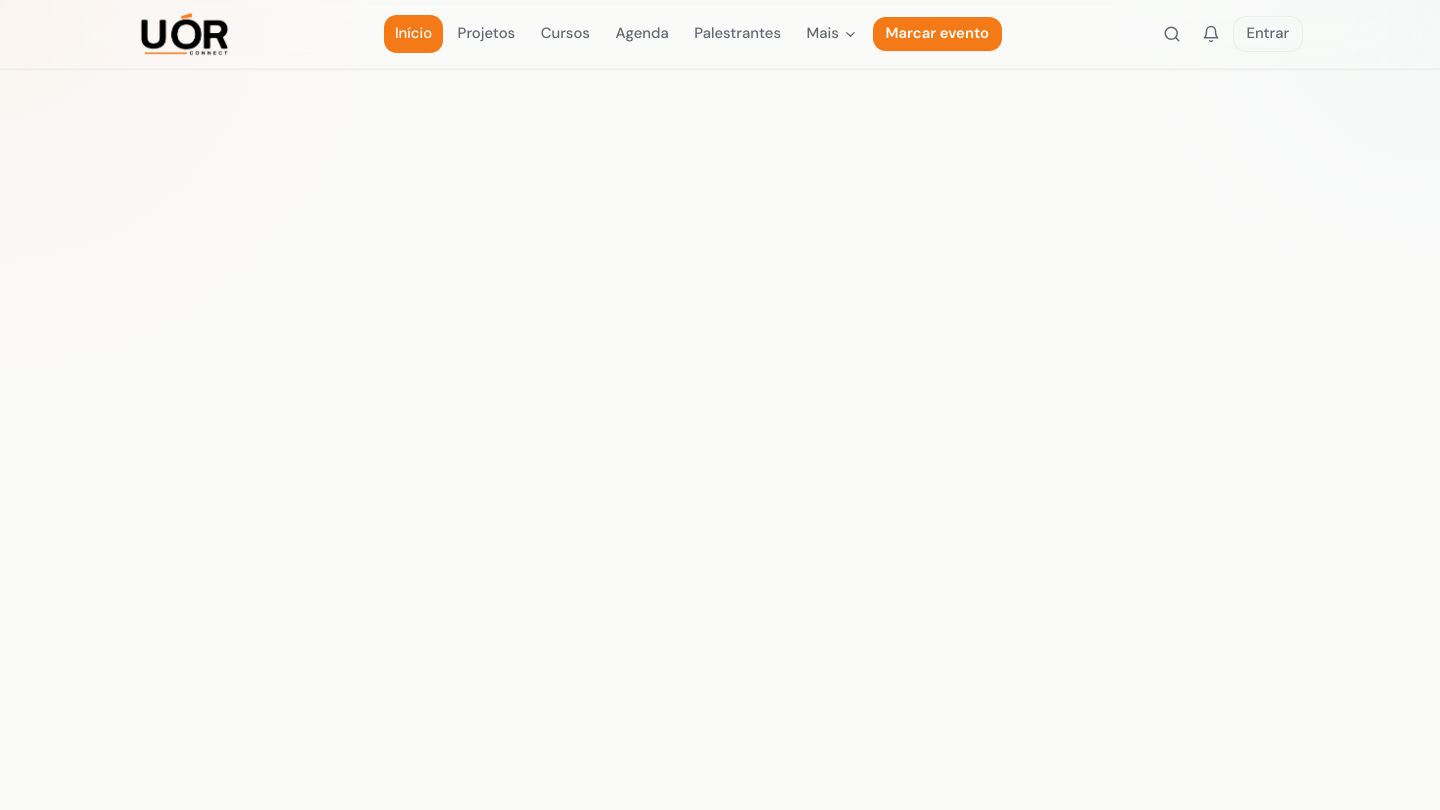
Test: Navbar notification center › abre o centro de notificações com dados públicos mesmo sem sessão
The width and height of the screenshot is (1440, 810).
Click the button named "centro de notificações".
click(1211, 34)  # box [1193,16,1228,52]
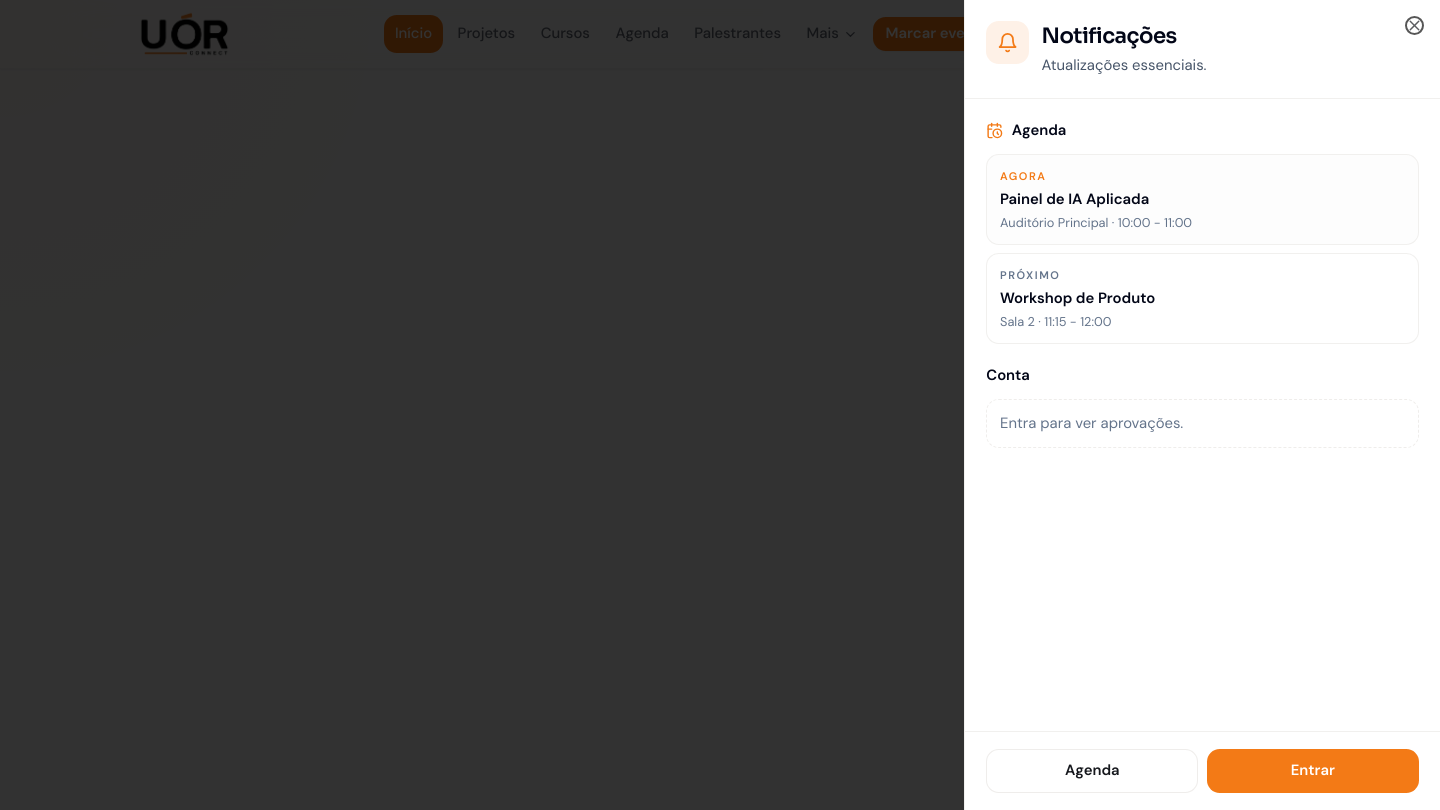
Now the heading "Notificações" is shown, box [1042,22,1177,49]
Now the text "Painel de IA Aplicada" is shown, box [1000,188,1149,208]
Now the text "Workshop de Produto" is shown, box [1000,288,1155,308]
